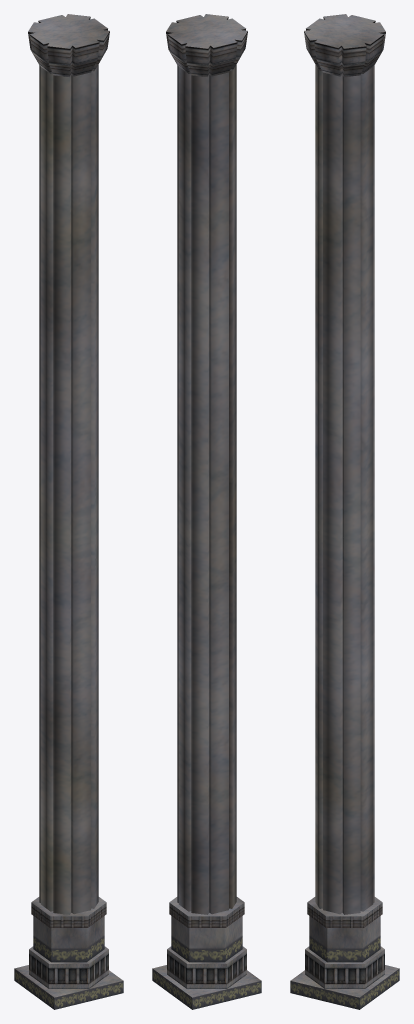
Rendered from column_01.glb.
3 views of the same model, side by side, from view 1: azimuth 30°, elevation 25°; view 2: azimuth 210°, elevation 25°; view 3: azimuth 330°, elevation 25° (orthographic).
Visible parts, largest first — view 1: column_01; view 2: column_01; view 3: column_01.
Boxes of the visible parts, x1,y1,x2,y2 form: column_01: [14, 14, 123, 1009]; column_01: [152, 14, 261, 1009]; column_01: [290, 14, 399, 1009].
Size of the model in its own units: 1.74 by 23.02 by 1.74.
Materials: 1 (1 with a texture image).
